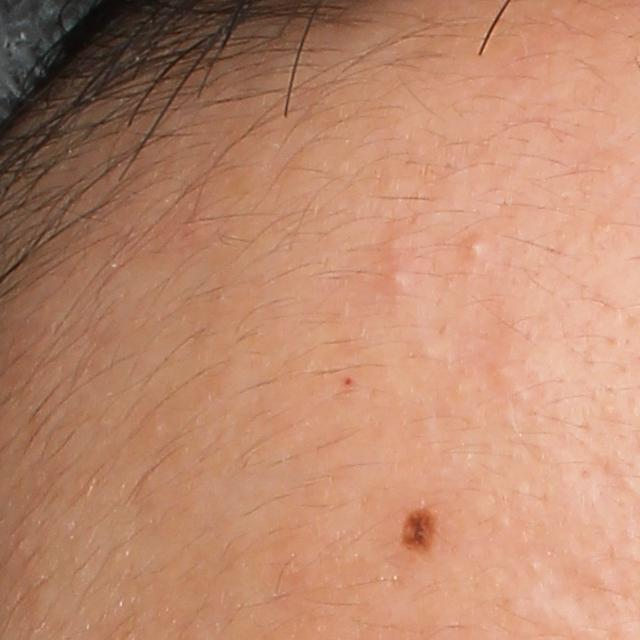comedo: (461, 232, 494, 259), (387, 269, 407, 288)
